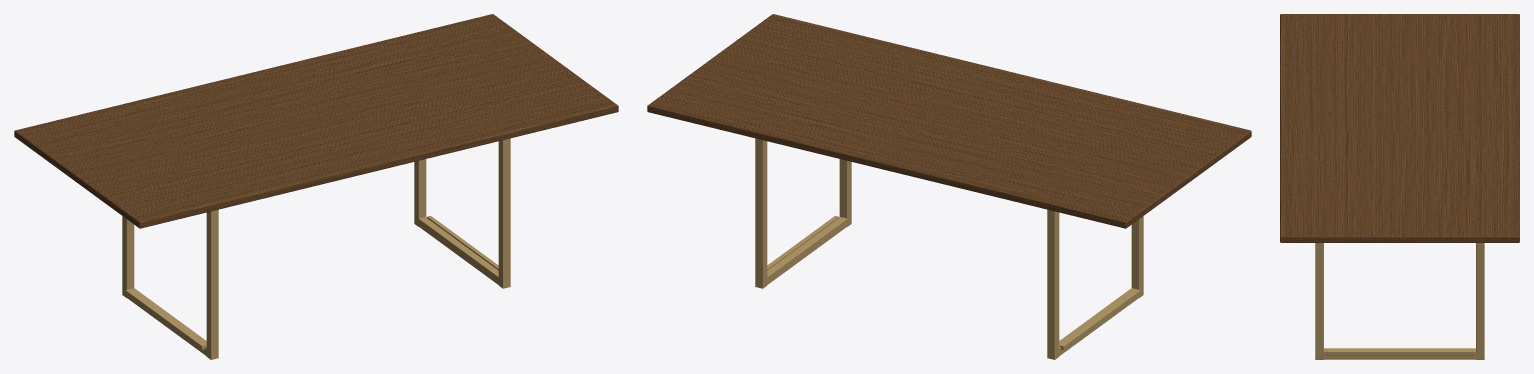
3 views of the same model, side by side, from view 1: azimuth 30°, elevation 25°; view 2: azimuth 150°, elevation 25°; view 3: azimuth 270°, elevation 25° (orthographic). The views are drawn at different scales.
Parts seen in each view (by area): view 1: SIENNA LV463-D01 | LV463-D01-01 optimized; view 2: SIENNA LV463-D01 | LV463-D01-01 optimized; view 3: SIENNA LV463-D01 | LV463-D01-01 optimized.
Boxes of the visible parts, x1,y1,x2,y2 form: SIENNA LV463-D01 | LV463-D01-01 optimized: (14, 14, 618, 359); SIENNA LV463-D01 | LV463-D01-01 optimized: (647, 14, 1251, 359); SIENNA LV463-D01 | LV463-D01-01 optimized: (1280, 14, 1519, 359).
Bounding box in the file's own units: 2.2 × 0.7599 × 1.
2 materials, 1 textured.
